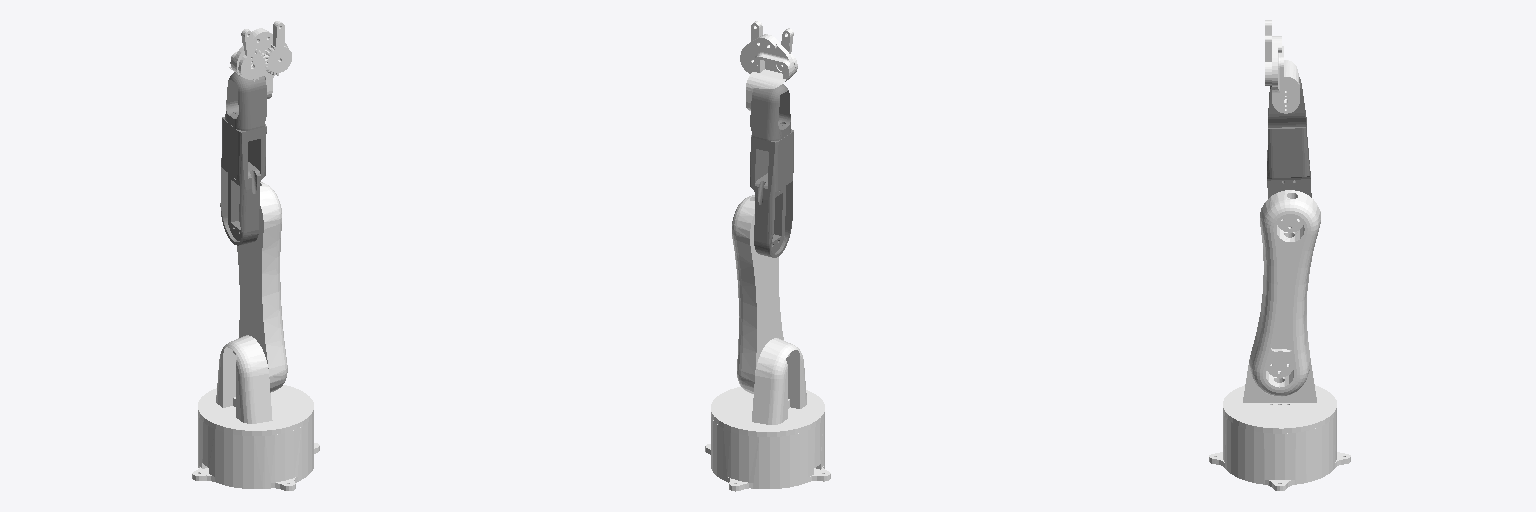
URDF robot description (robot):
<?xml version="1.0"?>
<robot xmlns:xacro="http://www.ros.org/wiki/xacro">

  <link
    name="base_link">
    <inertial>
      <origin
        xyz="0.00088931 1.518E-10 0.022426"
        rpy="0 0 0" />
      <mass
        value="0.093992" />
      <inertia
        ixx="0.00011412"
        ixy="1.977E-13"
        ixz="-1.3528E-06"
        iyy="0.00012443"
        iyz="1.9115E-13"
        izz="0.00019777" />
    </inertial>
    <visual>
      <origin
        xyz="0 0 0"
        rpy="0 0 0" />
      <geometry>
        <mesh
          filename="package://robot_arm/meshes/base_link.STL" />
      </geometry>
      <material
        name="">
        <color
          rgba="1 1 1 1" />
      </material>
    </visual>
    <collision>
      <origin
        xyz="0 0 0"
        rpy="0 0 0" />
      <geometry>
        <mesh
          filename="package://robot_arm/meshes/base_link.STL" />
      </geometry>
    </collision>
  </link>

   <link
    name="rotating_waste_link">
    <inertial>
      <origin
        xyz="-0.0070576 -1.0381E-07 0.019423"
        rpy="0 0 0" />
      <mass
        value="0.091516" />
      <inertia
        ixx="7.8818E-05"
        ixy="-2.8268E-10"
        ixz="8.1273E-06"
        iyy="6.8276E-05"
        iyz="6.7942E-11"
        izz="7.2109E-05" />
    </inertial>
    <visual>
      <origin
        xyz="0 0 0"
        rpy="0 0 0" />
      <geometry>
        <mesh
          filename="package://robot_arm/meshes/rotating_waste_link.STL" />
      </geometry>
      <material
        name="">
        <color
          rgba="1 1 1 1" />
      </material>
    </visual>
    <collision>
      <origin
        xyz="0 0 0"
        rpy="0 0 0" />
      <geometry>
        <mesh
          filename="package://robot_arm/meshes/rotating_waste_link.STL" />
      </geometry>
    </collision>
  </link>

  <joint
    name="base_rotating_waste_joint"
    type="revolute">
    <origin
      xyz="0 0 0.05"
      rpy="0 0 0" />
    <parent
      link="base_link" />
    <child
      link="rotating_waste_link" />
    <axis
      xyz="0 0 1" />
    <limit
      lower="0"
      upper="3.14"
      effort="200"
      velocity="2" />
  </joint>

   <link
    name="arm1_link">
    <inertial>
      <origin
        xyz="0.00631836393428441 0.00457630250829717 0.0698502612146547"
        rpy="0 0 0" />
      <mass
        value="0.140952853784722" />
      <inertia
        ixx="0.000440416626025168"
        ixy="-1.98721405209177E-11"
        ixz="-2.90833471708738E-12"
        iyy="0.000419628031992997"
        iyz="-2.54311534936983E-05"
        izz="3.31281769441693E-05" />
    </inertial>
    <visual>
      <origin
        xyz="0 0 0"
        rpy="0 0 0" />
      <geometry>
        <mesh
          filename="package://robot_arm/meshes/arm1_link.STL" />
      </geometry>
      <material
        name="">
        <color
          rgba="1 1 1 1" />
      </material>
    </visual>
    <collision>
      <origin
        xyz="0 0 0"
        rpy="0 0 0" />
      <geometry>
        <mesh
          filename="package://robot_arm/meshes/arm1_link.STL" />
      </geometry>
    </collision>
  </link>

  <joint
    name="rotating_waste_arm1_joint"
    type="revolute">
    <origin
      xyz="0.0015 0 0.04355"
      rpy="0 0 0" />
    <parent
      link="rotating_waste_link" />
    <child
      link="arm1_link" />
    <axis
      xyz="-1 0 0" />
    <limit
      lower="-1.57"
      upper="1.57"
      effort="300"
      velocity="2" />
  </joint>

  <link
    name="arm2_link">
    <inertial>
      <origin
        xyz="-0.00880357814701982 -0.00216767735851138 0.0625599808566242"
        rpy="0 0 0" />
      <mass
        value="0.0679899973206678" />
      <inertia
        ixx="6.08668610842258E-05"
        ixy="3.18721361237652E-08"
        ixz="-7.99265437177903E-07"
        iyy="5.65315919976104E-05"
        iyz="1.72686317681534E-06"
        izz="1.18089388202385E-05" />
    </inertial>
    <visual>
      <origin
        xyz="0 0 0"
        rpy="0 0 0" />
      <geometry>
        <mesh
          filename="package://robot_arm/meshes/arm2_link.STL" />
      </geometry>
      <material
        name="">
        <color
          rgba="0.627450980392157 0.627450980392157 0.627450980392157 1" />
      </material>
    </visual>
    <collision>
      <origin
        xyz="0 0 0"
        rpy="0 0 0" />
      <geometry>
        <mesh
          filename="package://robot_arm/meshes/arm2_link.STL" />
      </geometry>
    </collision>
  </link>
  <joint
    name="arm1_arm2_joint"
    type="revolute">
    <origin
      xyz="0 0.0091527 0.1397"
      rpy="0 0 0" />
    <parent
      link="arm1_link" />
    <child
      link="arm2_link" />
    <axis
      xyz="1 0 0" />
    <limit
      lower="-1.572"
      upper="1.572"
      effort="300"
      velocity="2" />
  </joint>

  <link
    name="gripper_base_link">
    <inertial>
      <origin
        xyz="-0.0086045 -0.0047925 0.024485"
        rpy="0 0 0" />
      <mass
        value="0.015888" />
      <inertia
        ixx="4.9763E-06"
        ixy="-1.0216E-08"
        ixz="5.5705E-07"
        iyy="6.3729E-06"
        iyz="8.4747E-07"
        izz="2.6359E-06" />
    </inertial>
    <visual>
      <origin
        xyz="0 0 0"
        rpy="0 0 0" />
      <geometry>
        <mesh
          filename="package://robot_arm/meshes/gripper_base_link.STL" />
      </geometry>
      <material
        name="">
        <color
          rgba="1 1 1 1" />
      </material>
    </visual>
    <collision>
      <origin
        xyz="0 0 0"
        rpy="0 0 0" />
      <geometry>
        <mesh
          filename="package://robot_arm/meshes/gripper_base_link.STL" />
      </geometry>
    </collision>
  </link>
  <joint
    name="arm2_gripper_base_joint"
    type="revolute">
    <origin
      xyz="0.011 -0.0039062 0.11959"
      rpy="0 0 0" />
    <parent
      link="arm2_link" />
    <child
      link="gripper_base_link" />
    <axis
      xyz="1 0 0" />
    <limit
      lower="-1.57"
      upper="1.57"
      effort="200"
      velocity="2" />
  </joint>

  <link
    name="left_gear_link">
    <inertial>
      <origin
        xyz="-0.000416201264684057 0.00225628206764544 0.00726342155223458"
        rpy="0 0 0" />
      <mass
        value="0.00288097977011737" />
      <inertia
        ixx="4.58702443643956E-07"
        ixy="2.17136633214979E-09"
        ixz="6.07780555610504E-08"
        iyy="5.52241597953508E-07"
        iyz="-1.31901969283621E-08"
        izz="1.04781150402433E-07" />
    </inertial>
    <visual>
      <origin
        xyz="0 0 0"
        rpy="0 0 0" />
      <geometry>
        <mesh
          filename="package://robot_arm/meshes/left_gear_link.STL" />
      </geometry>
      <material
        name="">
        <color
          rgba="1 1 1 1" />
      </material>
    </visual>
    <collision>
      <origin
        xyz="0 0 0"
        rpy="0 0 0" />
      <geometry>
        <mesh
          filename="package://robot_arm/meshes/left_gear_link.STL" />
      </geometry>
    </collision>
  </link>
  <joint
    name="gripper_base_left_gear_joint"
    type="revolute">
    <origin
      xyz="-0.02295 -0.018135 0.0302"
      rpy="0 0 0" />
    <parent
      link="gripper_base_link" />
    <child
      link="left_gear_link" />
    <axis
      xyz="0 1 0" />
    <limit
      lower="-1.57"
      upper="1.57"
      effort="200"
      velocity="2" />
  </joint>

  <link
    name="right_gear_link">
    <inertial>
      <origin
        xyz="-0.000511366230434651 0.00299999999999997 0.00558778456902781"
        rpy="0 0 0" />
      <mass
        value="0.00404166832548351" />
      <inertia
        ixx="5.63449978901378E-07"
        ixy="2.12482258863504E-23"
        ixz="-2.09627300327499E-08"
        iyy="6.84276691264749E-07"
        iyz="1.73661663718213E-23"
        izz="1.45076722316272E-07" />
    </inertial>
    <visual>
      <origin
        xyz="0 0 0"
        rpy="0 0 0" />
      <geometry>
        <mesh
          filename="package://robot_arm/meshes/right_gear_link.STL" />
      </geometry>
      <material
        name="">
        <color
          rgba="1 1 1 1" />
      </material>
    </visual>
    <collision>
      <origin
        xyz="0 0 0"
        rpy="0 0 0" />
      <geometry>
        <mesh
          filename="package://robot_arm/meshes/right_gear_link.STL" />
      </geometry>
    </collision>
  </link>
  <joint
    name="gripper_base_right_gear_joint"
    type="revolute">
    <origin
      xyz="0.00395 -0.018135 0.0302"
      rpy="0 0 0" />
    <parent
      link="gripper_base_link" />
    <child
      link="right_gear_link" />
    <axis
      xyz="0 1 0" />
    <limit
      lower="-1.57"
      upper="1.57"
      effort="200"
      velocity="2" />
    <mimic
      joint="gripper_base_left_gear_joint"
      multiplier="-1"
      offset="0" />
  </joint>




</robot> 

--- Facts derived from the render (not from the file) ---
Views: 3 orthographic renders of the robot side by side, from view 1: azimuth 30°, elevation 25°; view 2: azimuth 150°, elevation 25°; view 3: azimuth 270°, elevation 25°.
Model robot with 7 links and 6 joints (6 revolute), rooted at base_link, posed all joints at 0.
Visible links, largest first — view 1: rotating_waste_link, arm2_link, base_link, arm1_link, right_gear_link, left_gear_link, gripper_base_link; view 2: rotating_waste_link, arm2_link, base_link, arm1_link, gripper_base_link; view 3: arm1_link, base_link, rotating_waste_link, arm2_link, gripper_base_link.
Boxes of the visible links, x1,y1,x2,y2 form: rotating_waste_link: [198, 335, 313, 435]; arm2_link: [220, 72, 266, 245]; base_link: [192, 416, 319, 490]; arm1_link: [237, 182, 287, 392]; right_gear_link: [264, 21, 291, 75]; left_gear_link: [238, 29, 267, 81]; gripper_base_link: [229, 28, 288, 98]; rotating_waste_link: [711, 338, 824, 436]; arm2_link: [750, 84, 793, 257]; base_link: [705, 417, 830, 491]; arm1_link: [732, 195, 783, 393]; gripper_base_link: [740, 34, 794, 110]; arm1_link: [1249, 190, 1320, 396]; base_link: [1209, 413, 1350, 490]; rotating_waste_link: [1223, 359, 1336, 433]; arm2_link: [1267, 77, 1311, 226]; gripper_base_link: [1272, 36, 1299, 113].
Size in the robot's own frame: 0.124 by 0.124 by 0.4177 metres.
Meshes: 7 distinct files referenced, 7 mesh visuals loaded (7 binary STL).